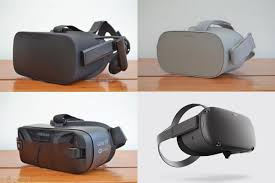oculus: (12, 27, 113, 85), (157, 22, 254, 81), (16, 120, 117, 175), (175, 105, 261, 158)
